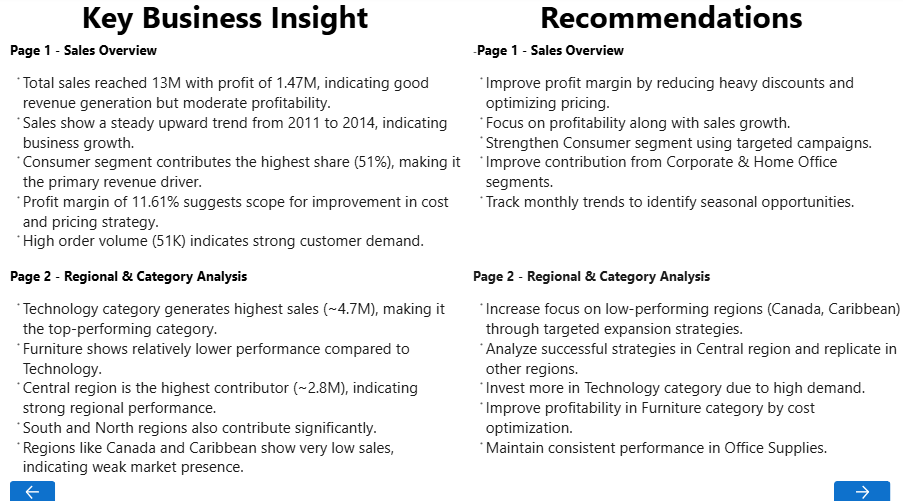

The page's visual inventory and layout, read from the dashboard file:
{"tool":"powerbi","page":{"name":"Page 5","canvas":[1280,720],"ordinal":4},"visuals":[{"type":"textbox","box":[48,0,544,64],"z":0},{"type":"textbox","box":[16,64,640,304],"z":1000},{"type":"textbox","box":[16,384,624,304],"z":1001},{"type":"textbox","box":[640,0,624,64],"z":1002},{"type":"textbox","box":[672,64,608,304],"z":1003},{"type":"textbox","box":[672,384,608,288],"z":1004},{"type":"actionButton","box":[16,688,64,32],"z":1005},{"type":"actionButton","box":[1184,688,80,32],"z":1006}]}

Visuals, with their boxes in screenshot pixels (x1, y1, x2, y2), scaled from the page's 1280x720 canvas onto the 903x501 screenshot:
textbox: left=34, top=0, right=418, bottom=45
textbox: left=11, top=45, right=463, bottom=256
textbox: left=11, top=267, right=452, bottom=479
textbox: left=452, top=0, right=892, bottom=45
textbox: left=474, top=45, right=902, bottom=256
textbox: left=474, top=267, right=902, bottom=468
actionButton: left=11, top=479, right=56, bottom=500
actionButton: left=835, top=479, right=892, bottom=500
